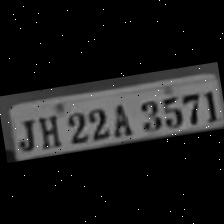1: (198, 85, 220, 122)
2: (80, 100, 110, 140), (60, 106, 89, 144)
3: (133, 92, 162, 132)
5: (156, 90, 182, 128)
7: (177, 86, 203, 124)
A: (104, 97, 134, 137)
H: (32, 110, 62, 150)
J: (7, 114, 37, 153)
